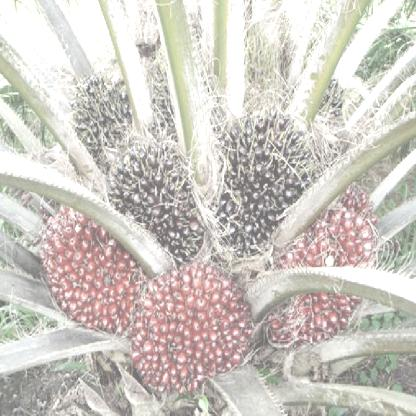1: (262, 187, 380, 351), (127, 256, 256, 395), (39, 204, 142, 329), (212, 116, 306, 234)
palm-oil: (106, 138, 198, 261), (68, 75, 139, 164), (147, 51, 220, 136)
